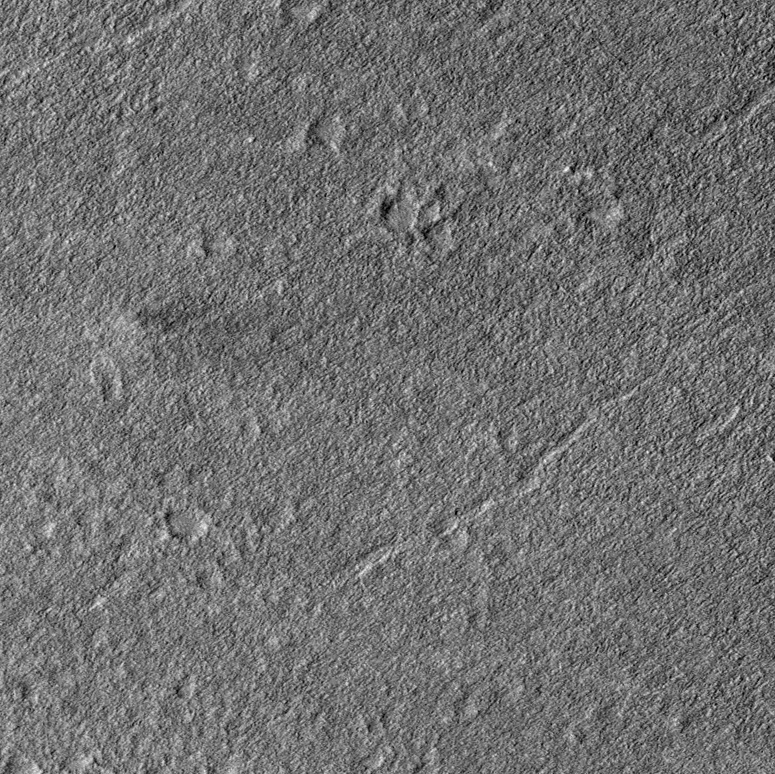dust_devil: (111, 298, 276, 393)
